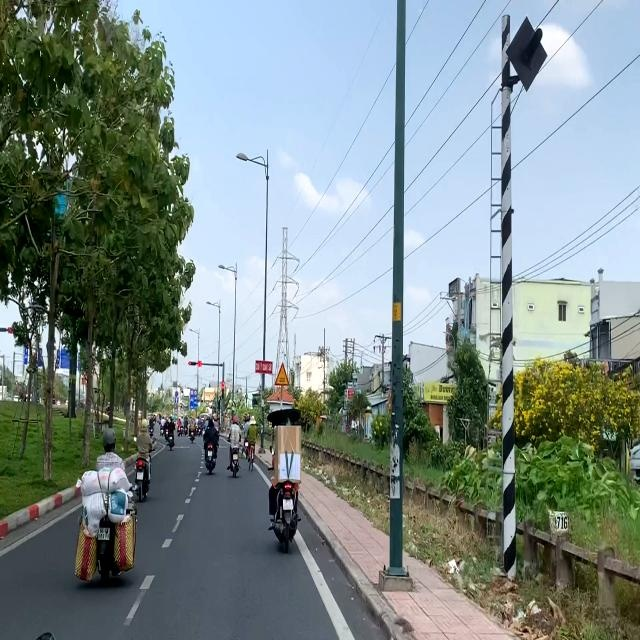bien_nguy_hiem: (274, 362, 290, 387)
